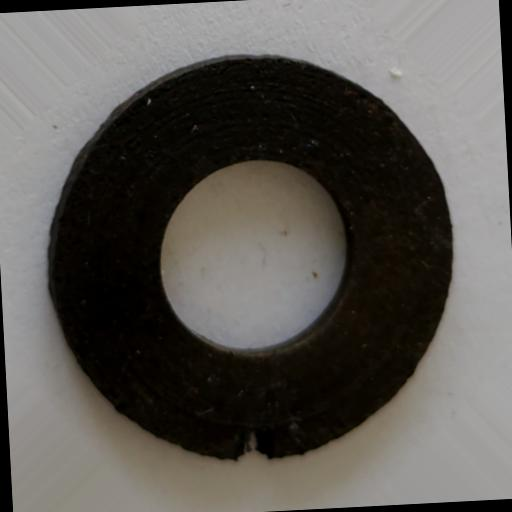defect: (234, 428, 276, 464)
